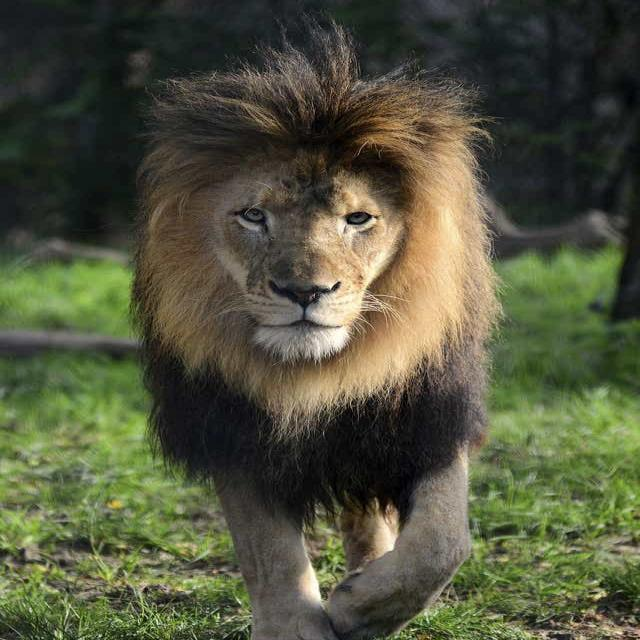Lion: (127, 14, 507, 639)
